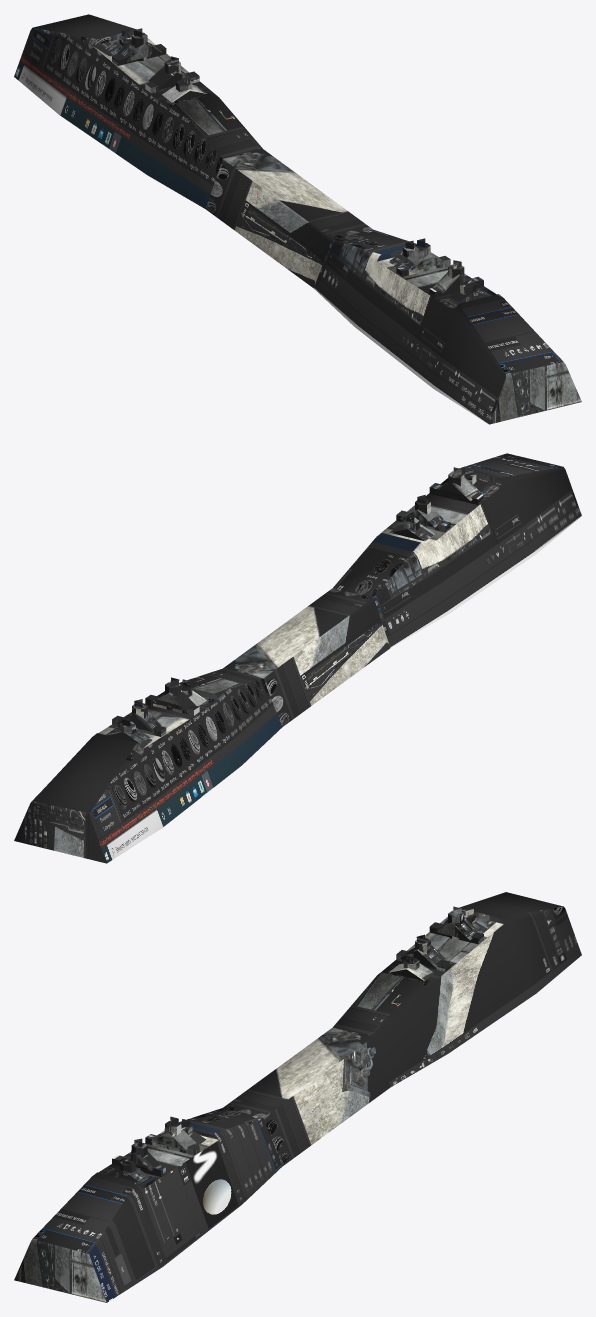
The model's file is SpalkaL1.fbx.
3 renders of one model, top to bottom at view 1: azimuth 30°, elevation 25°; view 2: azimuth 150°, elevation 25°; view 3: azimuth 330°, elevation 25°, orthographic.
Visible parts, largest first — view 1: SpalkaLOD1; view 2: SpalkaLOD1; view 3: SpalkaLOD1.
Part boxes in pixels (left/top/right/bottom): SpalkaLOD1: left=14, top=14, right=581, bottom=424; SpalkaLOD1: left=14, top=453, right=581, bottom=863; SpalkaLOD1: left=14, top=892, right=581, bottom=1302.
Size of the model in its own units: 33.69 by 29.16 by 269.
1 material, 1 textured.
